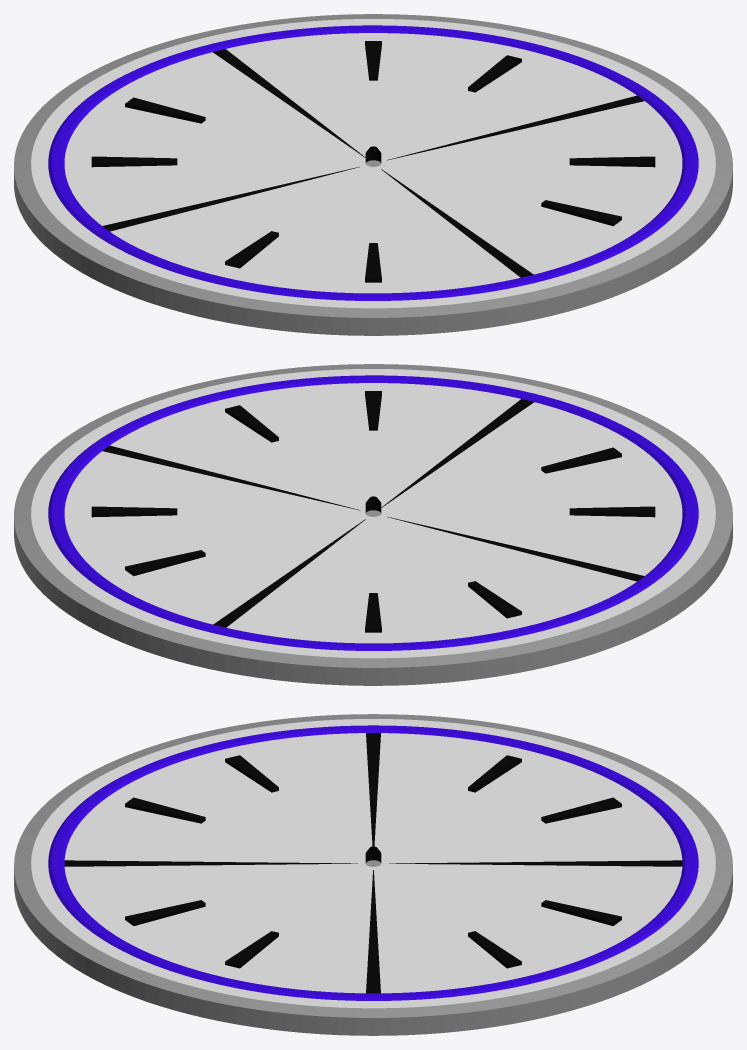
Rendered from Countdown Clock.fbx.
3 views of the same model, one above another, from view 1: azimuth 30°, elevation 25°; view 2: azimuth 150°, elevation 25°; view 3: azimuth 270°, elevation 25° (orthographic).
Parts seen in each view (by area): view 1: Circle; view 2: Circle; view 3: Circle.
Boxes of the visible parts, x1,y1,x2,y2 form: Circle: (14, 14, 732, 335); Circle: (14, 364, 732, 685); Circle: (14, 714, 732, 1035).
Size of the model in its own units: 630 by 34.68 by 630.
